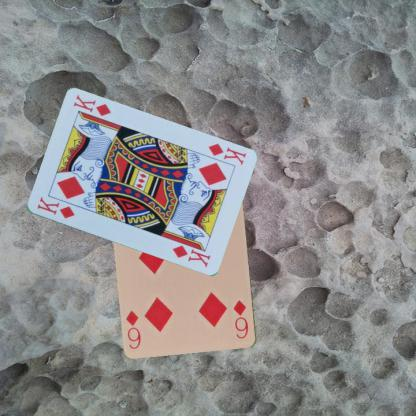6d: (230, 298, 249, 340)
Kd: (34, 194, 76, 220), (205, 140, 247, 166)
